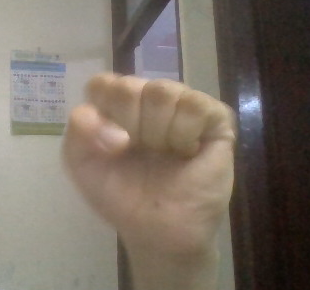click: (36, 70, 251, 265)
